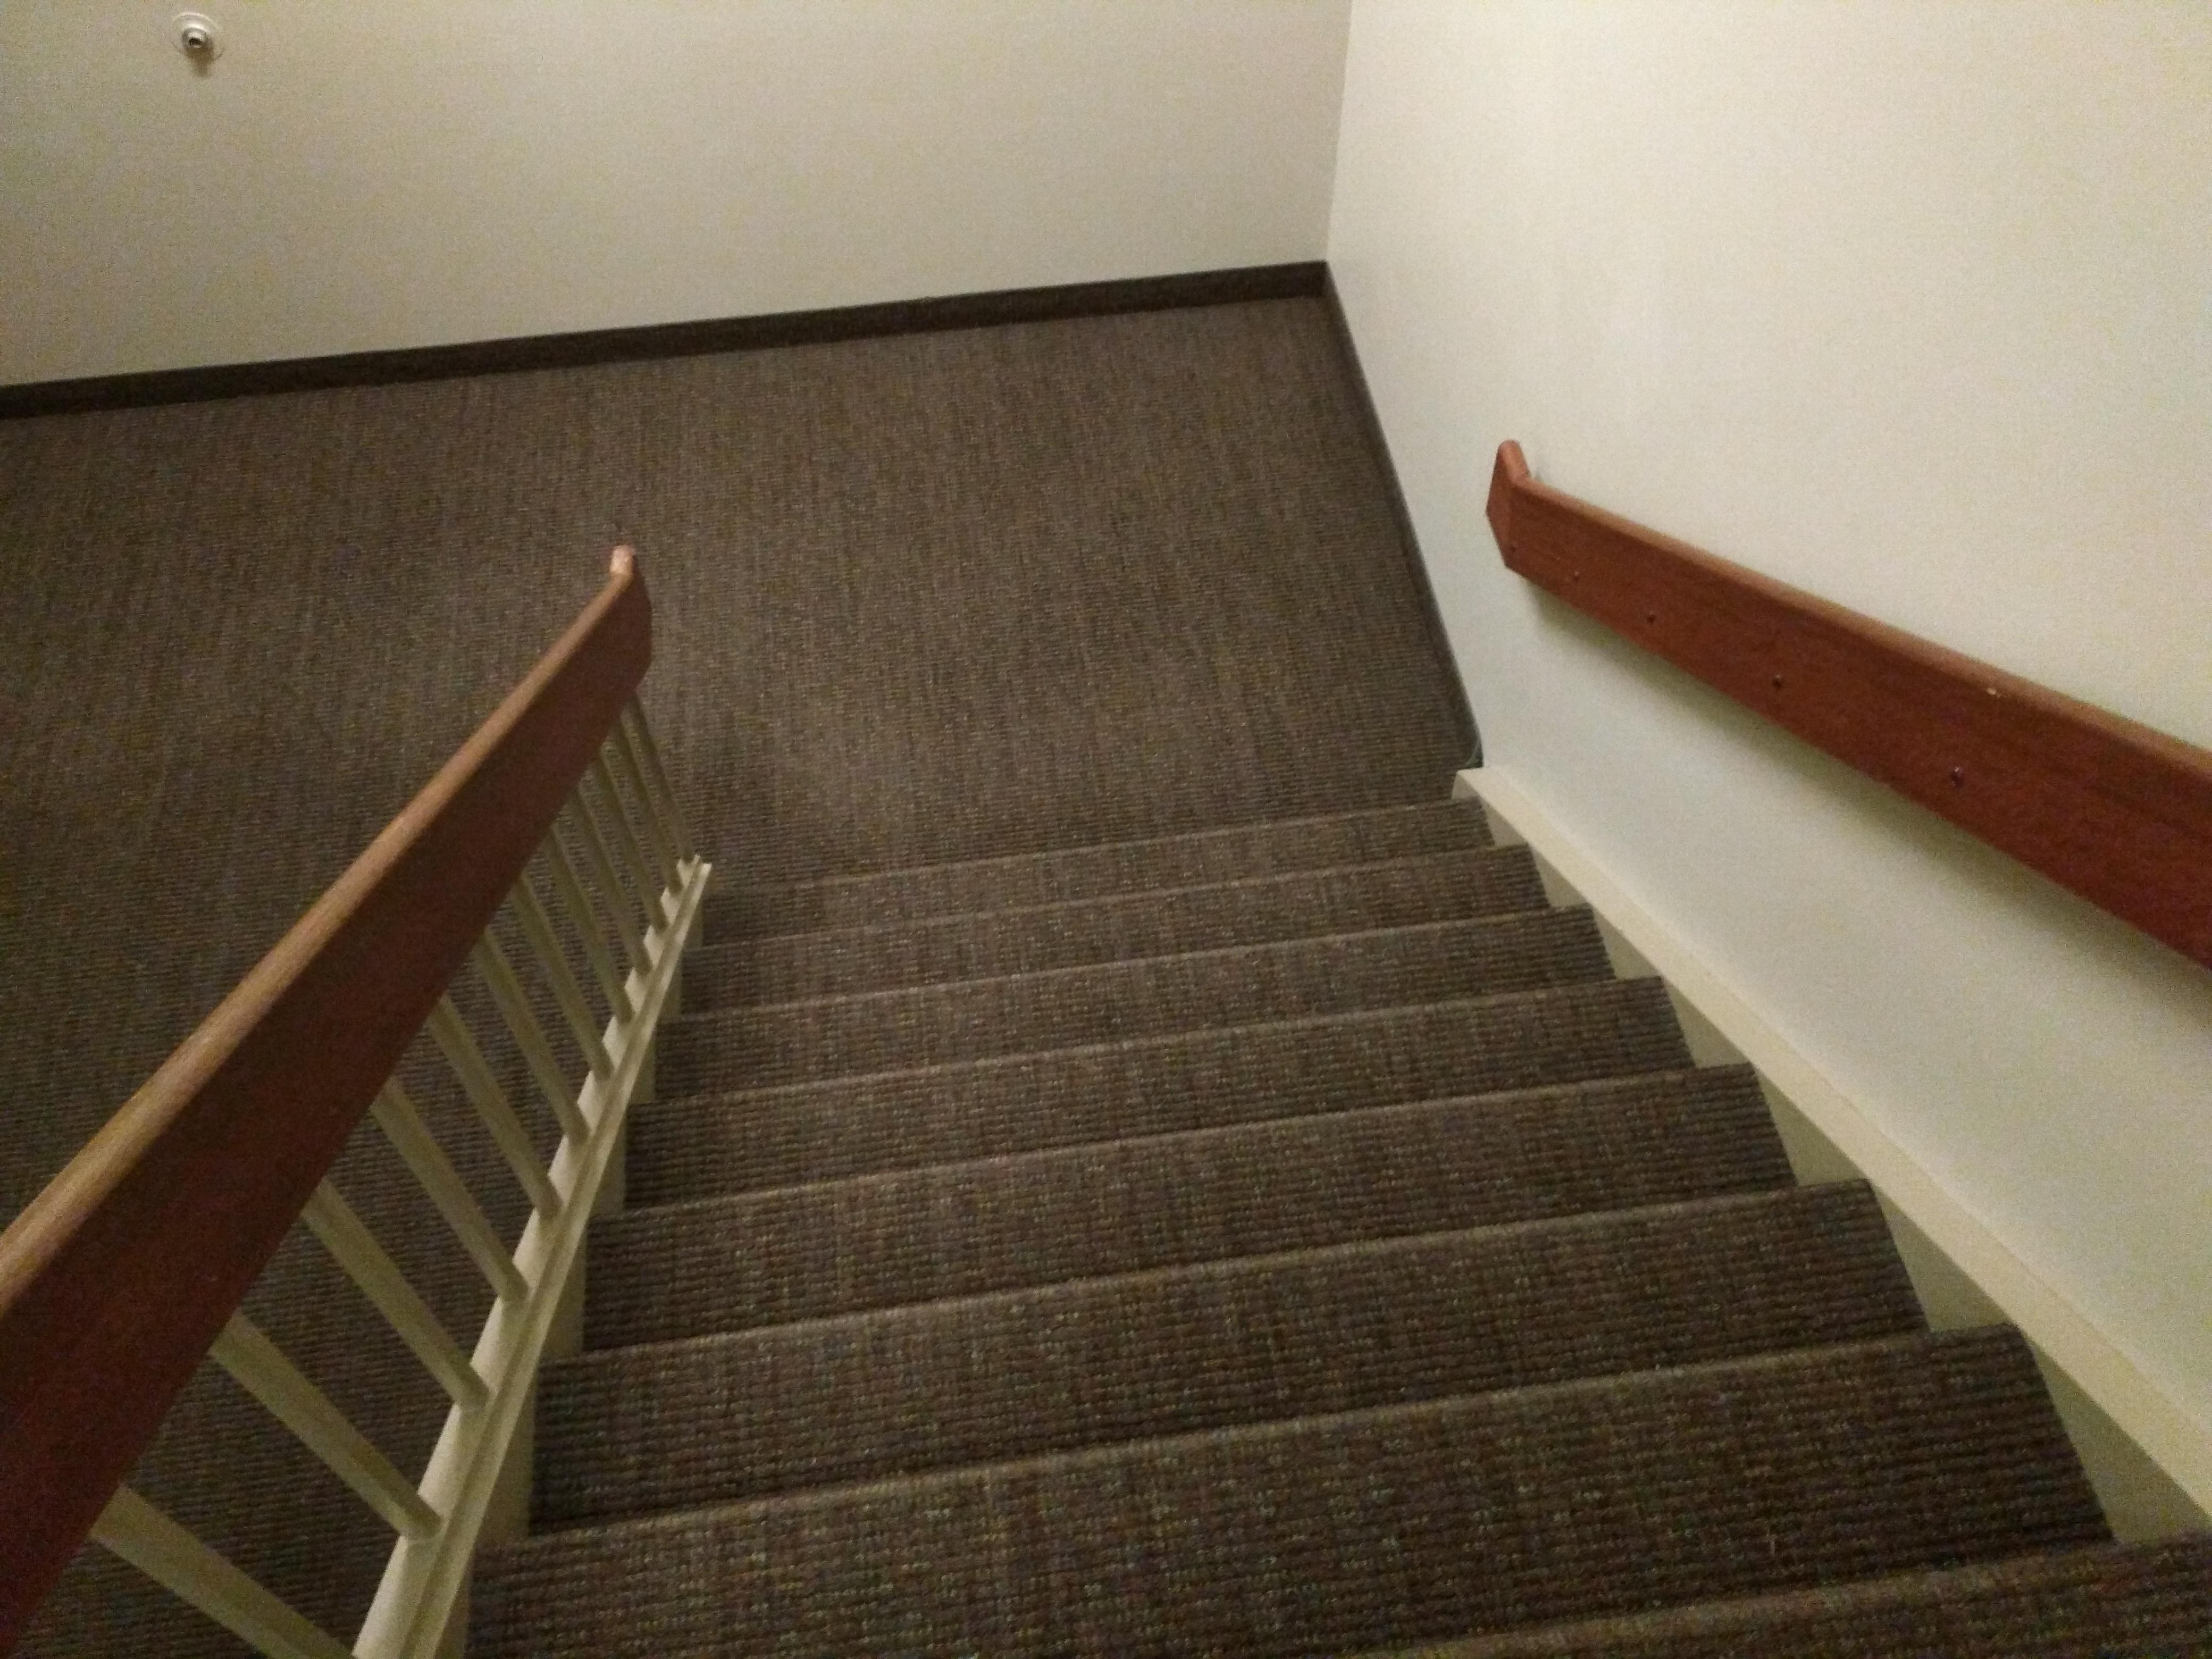stairs_down: (465, 786, 2163, 1659)
